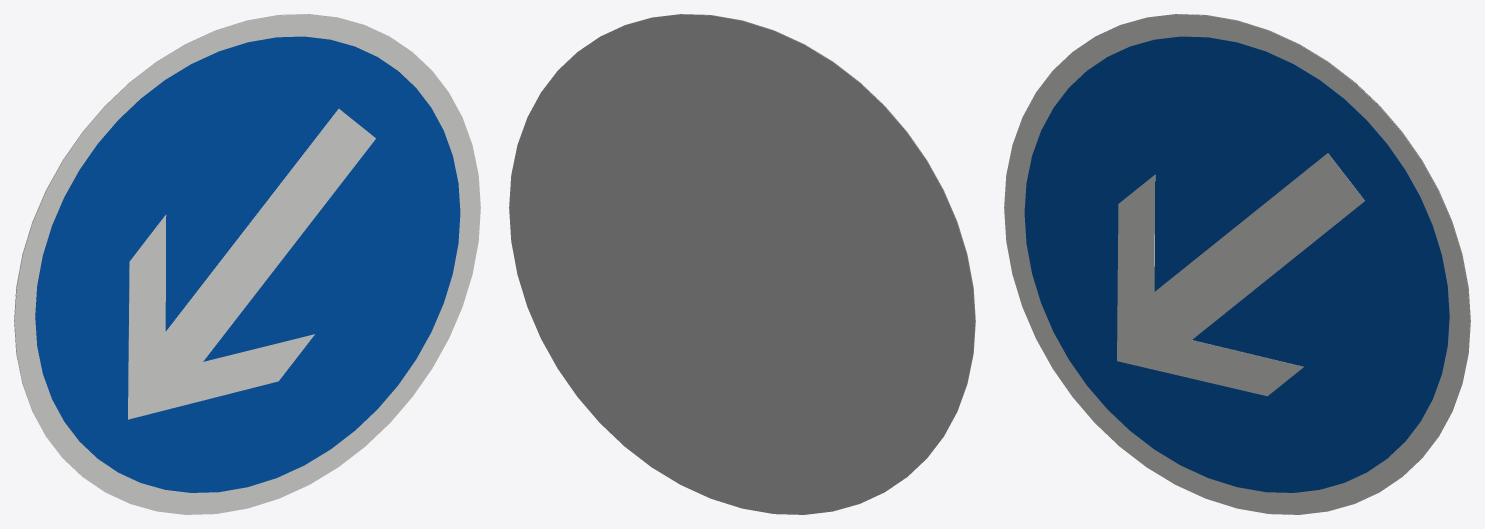
The picture shows the model from 3 angles, left to right: view 1: azimuth 30°, elevation 25°; view 2: azimuth 150°, elevation 25°; view 3: azimuth 330°, elevation 25°; orthographic projection.
Visible parts, largest first — view 1: B21a2_p01, B21a2_p00, B21a2_p02, B21a2_dos; view 2: B21a2_dos, B21a2_p00; view 3: B21a2_p01, B21a2_p00, B21a2_p02, B21a2_dos.
Boxes of the visible parts, x1=… form: B21a2_p01: x1=35, y1=36, x2=460, y2=492; B21a2_p00: x1=14, y1=14, x2=480, y2=514; B21a2_p02: x1=128, y1=109, x2=375, y2=419; B21a2_dos: x1=14, y1=14, x2=385, y2=473; B21a2_dos: x1=509, y1=14, x2=975, y2=514; B21a2_p00: x1=604, y1=14, x2=975, y2=473; B21a2_p01: x1=1024, y1=36, x2=1449, y2=492; B21a2_p00: x1=1004, y1=14, x2=1470, y2=514; B21a2_p02: x1=1117, y1=153, x2=1364, y2=396; B21a2_dos: x1=1099, y1=14, x2=1470, y2=473.
Size of the model in its own units: 0.85 by 0.8498 by 0.0027.
